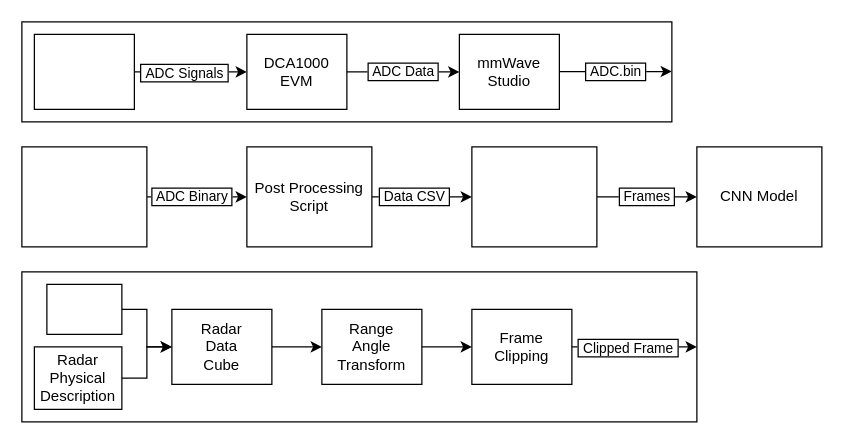
This 844x444 diagram has some shape labels left out. The centre of each missing label's shape, as x and y in pixels:
"ADC Frames" goes at pixel 84 308.
"IWR1843 BOOST" goes at pixel 83 71.
"mmWave Radar" goes at pixel 84 196.
"Pre Processing Algorithim" goes at pixel 534 196.
